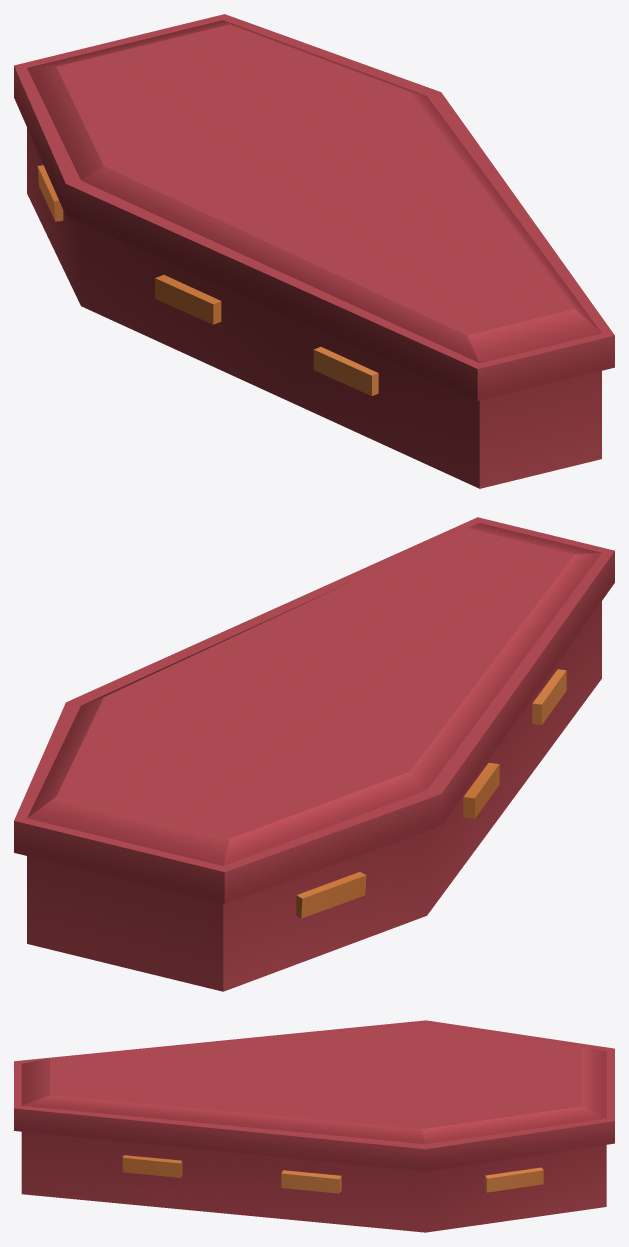
File: Prop_Coffin.fbx
3 views of the same model, one above another, from view 1: azimuth 30°, elevation 25°; view 2: azimuth 150°, elevation 25°; view 3: azimuth 270°, elevation 25° (orthographic). The views are drawn at different scales.
Parts seen in each view (by area): view 1: pCube8; view 2: pCube8; view 3: pCube8.
Boxes of the visible parts, box(x1,y1,x2,y2) form: pCube8: box(14, 14, 614, 488); pCube8: box(14, 517, 614, 991); pCube8: box(14, 1020, 614, 1232).
Bounding box in the file's own units: 313 × 109 × 616.
